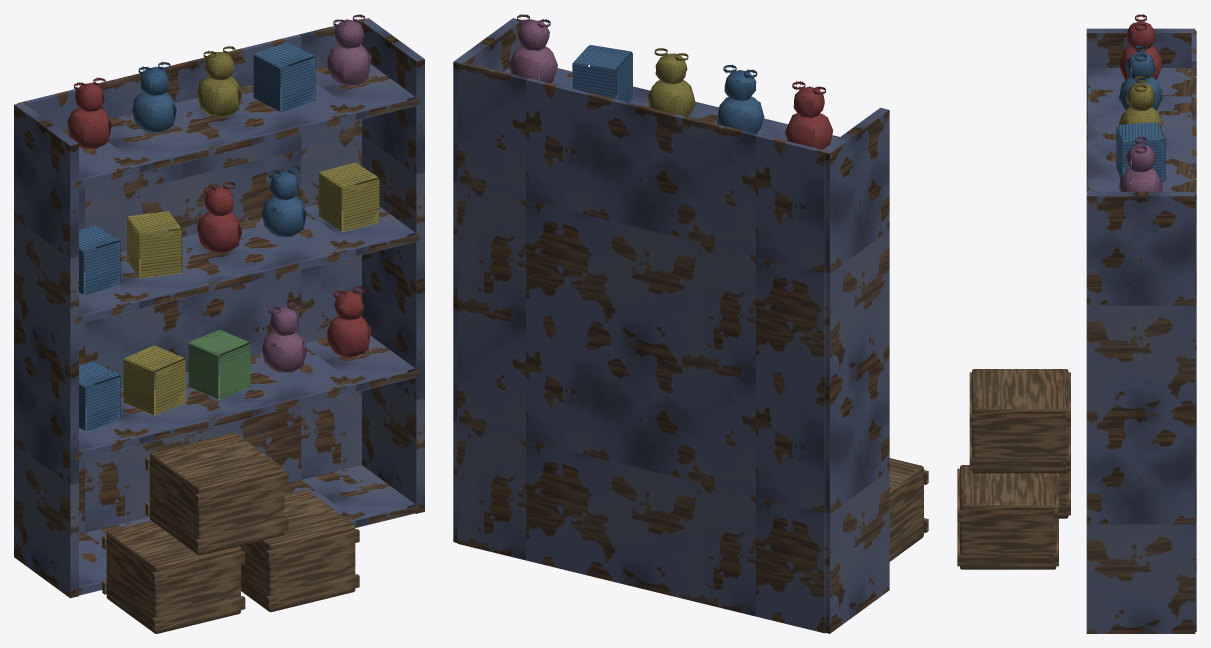
The model's file is C14_PrizeShelfWithCrates.glb.
3 renders of one model, left to right at view 1: azimuth 30°, elevation 25°; view 2: azimuth 150°, elevation 25°; view 3: azimuth 270°, elevation 25°, orthographic. The views are drawn at different scales.
Parts seen in each view (by area): view 1: C14_PrizeShelfWithCrates; view 2: C14_PrizeShelfWithCrates; view 3: C14_PrizeShelfWithCrates.
Part boxes in pixels (left/top/right/bottom): C14_PrizeShelfWithCrates: left=14, top=14, right=424, bottom=633; C14_PrizeShelfWithCrates: left=453, top=14, right=928, bottom=633; C14_PrizeShelfWithCrates: left=957, top=14, right=1196, bottom=633.
Bounding box in the file's own units: 1.52 × 1.99 × 0.9188.
9 materials, 9 textured.
